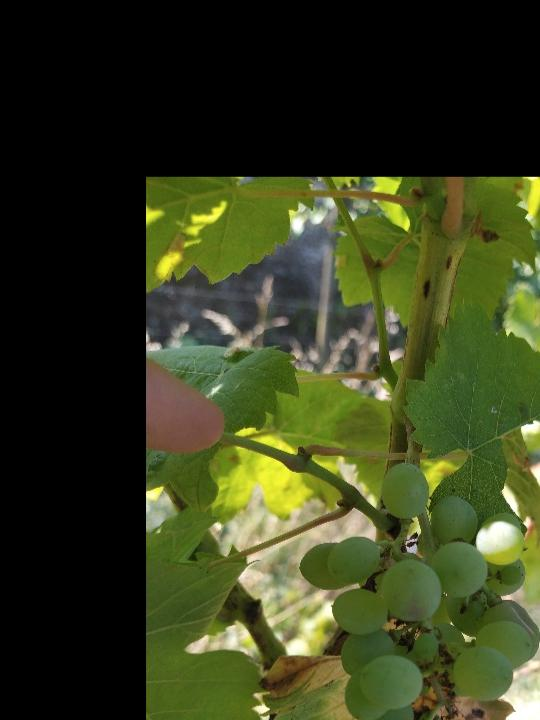grape: (296, 458, 540, 720)
